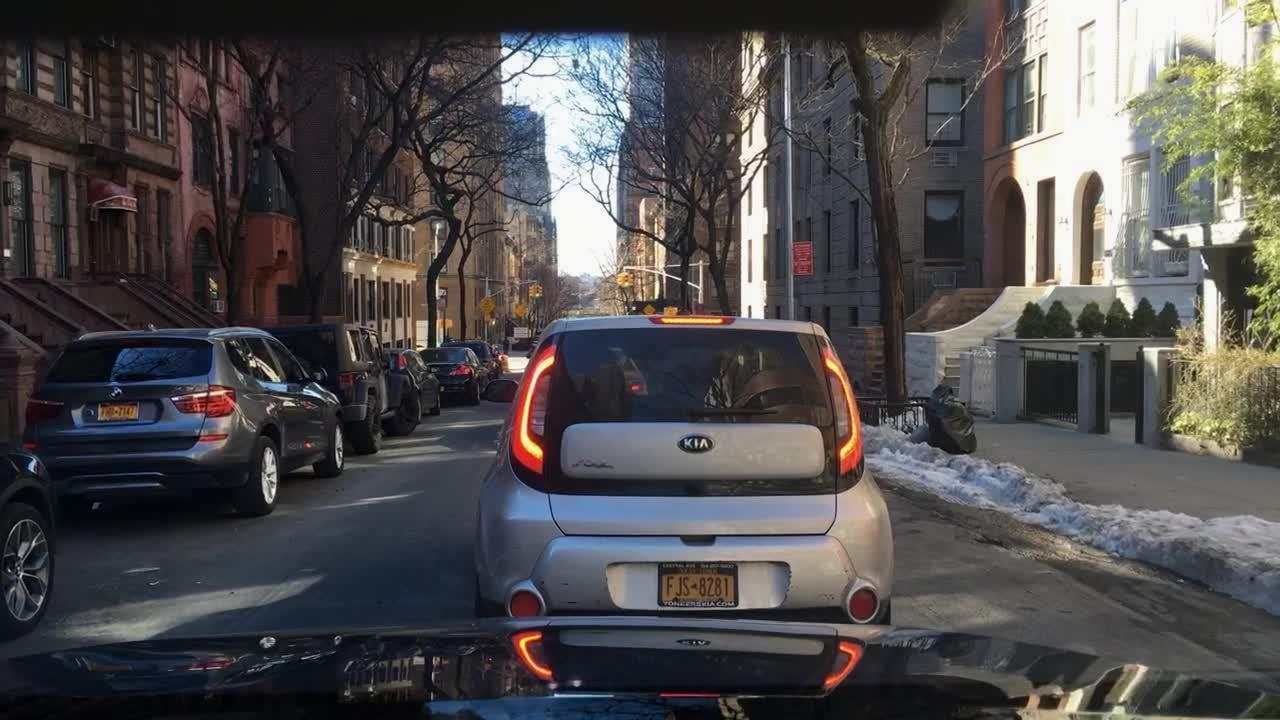bmw: (105, 386, 125, 402)
kia: (667, 423, 732, 463)
